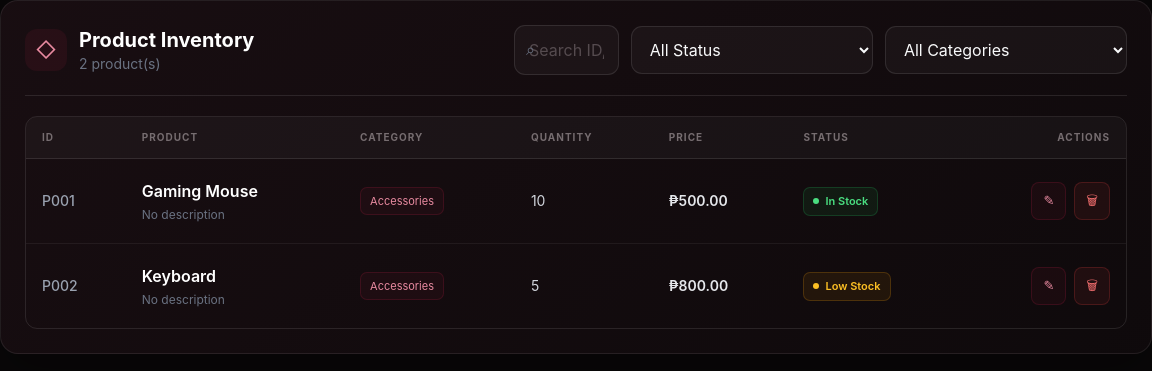
Test: Inventory Management System › should filter products when searching by product name
Step 1. Type "mouse" into the field with placeholder "Search ID, name, or category..." → point(566, 50), box left=514, top=25, right=619, bottom=75
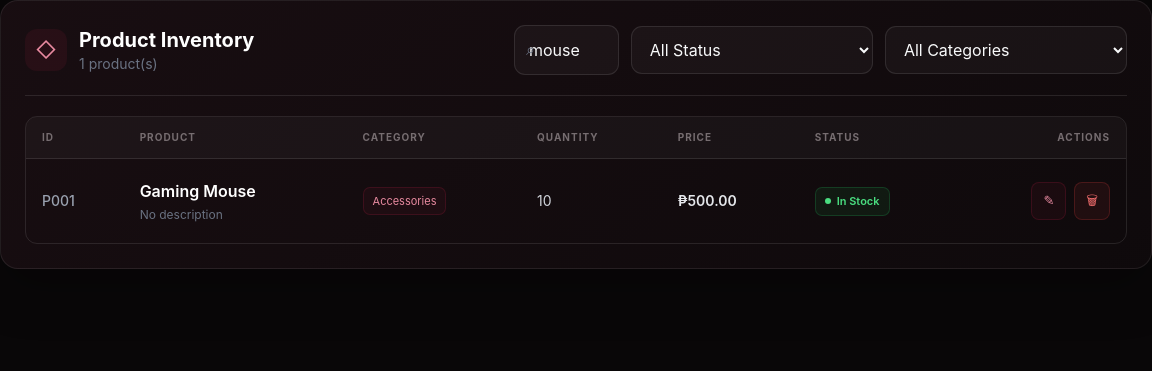
Expected: the text "Gaming Mouse" is shown, left=140, top=181, right=256, bottom=201
Result: the text "Keyboard" is gone
